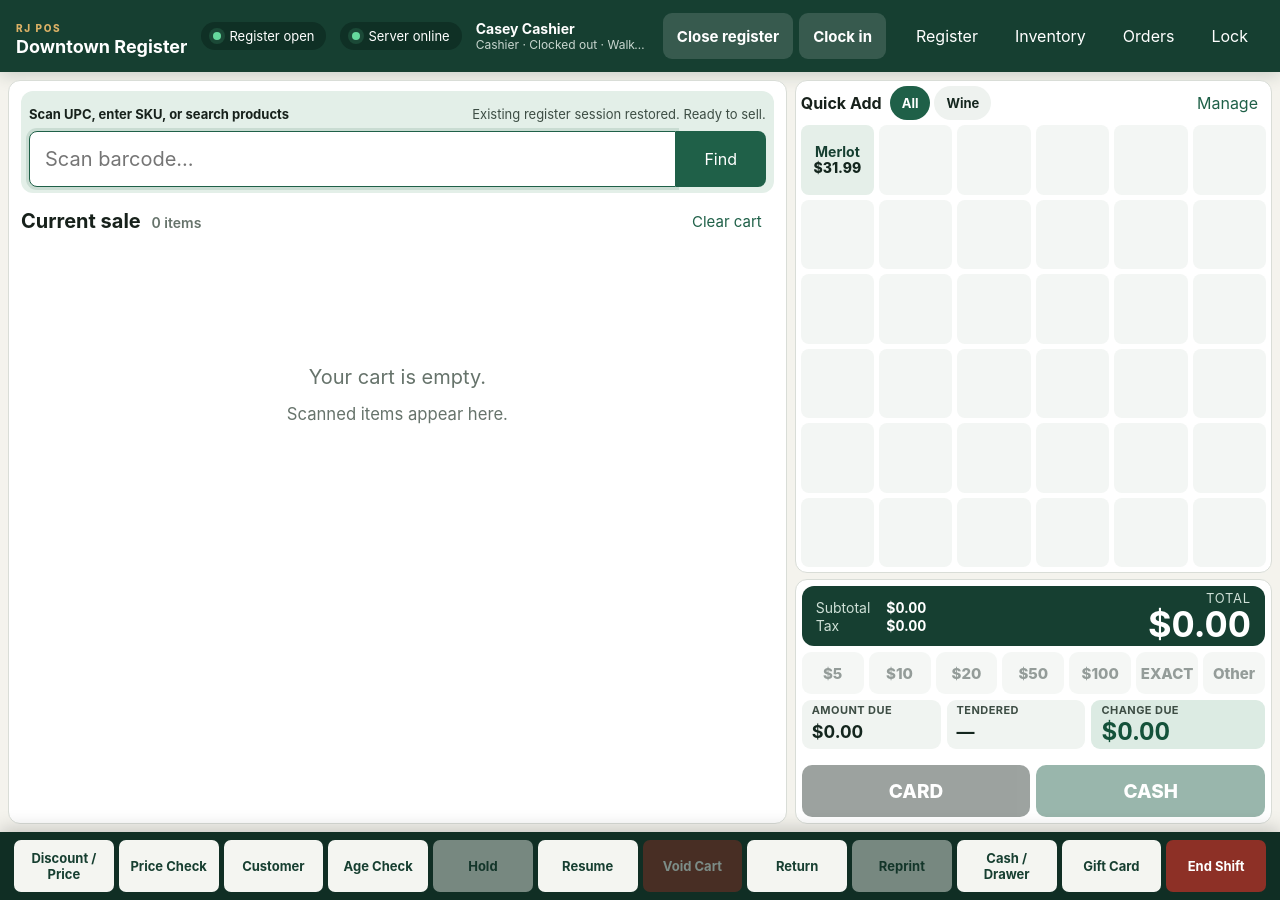
Cash tender, change due, Quick Add grid, and age check › shows the cash remainder after gift-card value in split tender and completes with the server result
The width and height of the screenshot is (1280, 900).
Click the button "Merlot $31.99" at [837, 160], box [801,125,874,194]
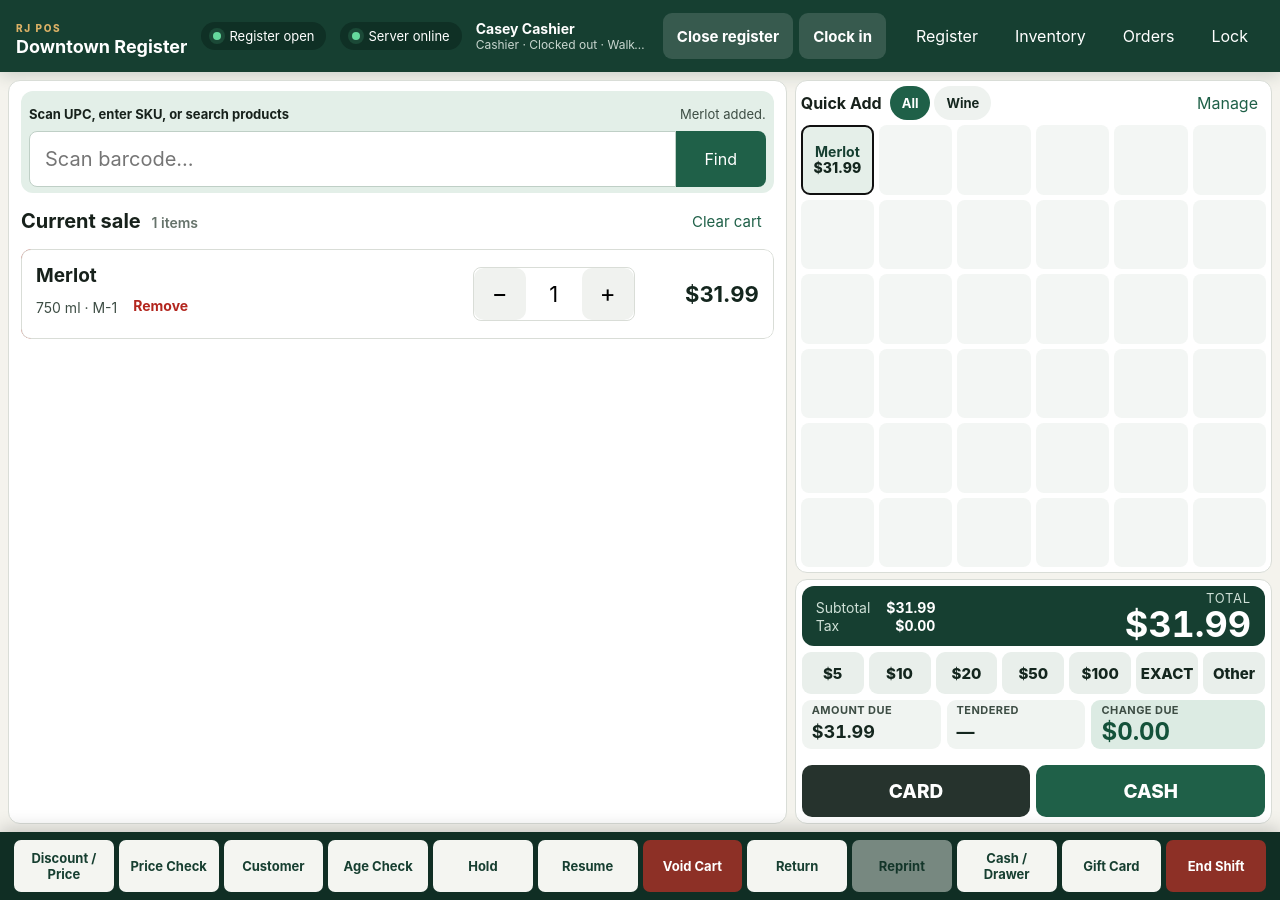
Expected: the field named "Quantity" is shown, [526,268,582,320]
Click the button "Gift Card" at [1111, 866], box [1062,840,1161,892]
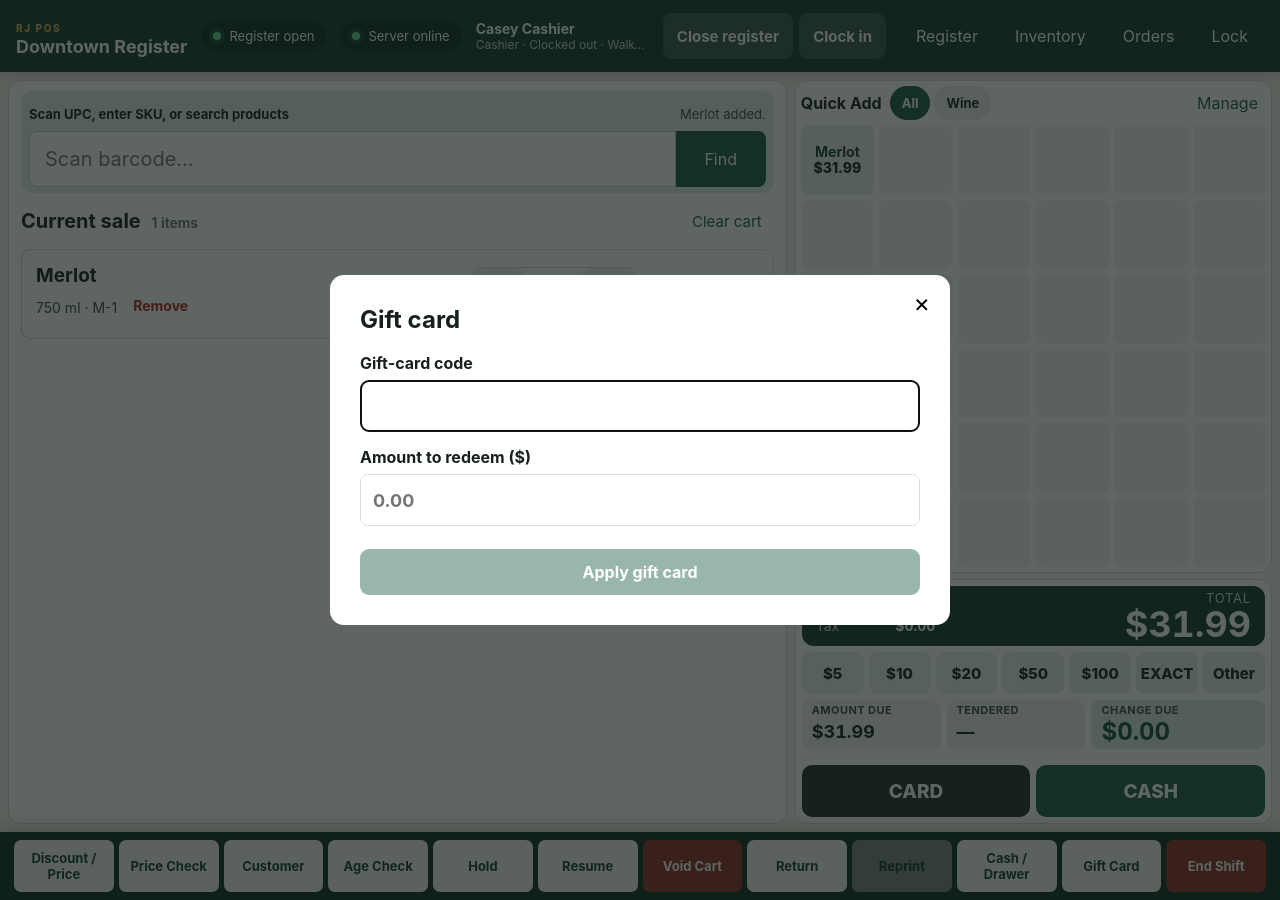
Type "RJ-1" into the field labelled "Gift-card code" at [640, 406], box [360,380,920,432]
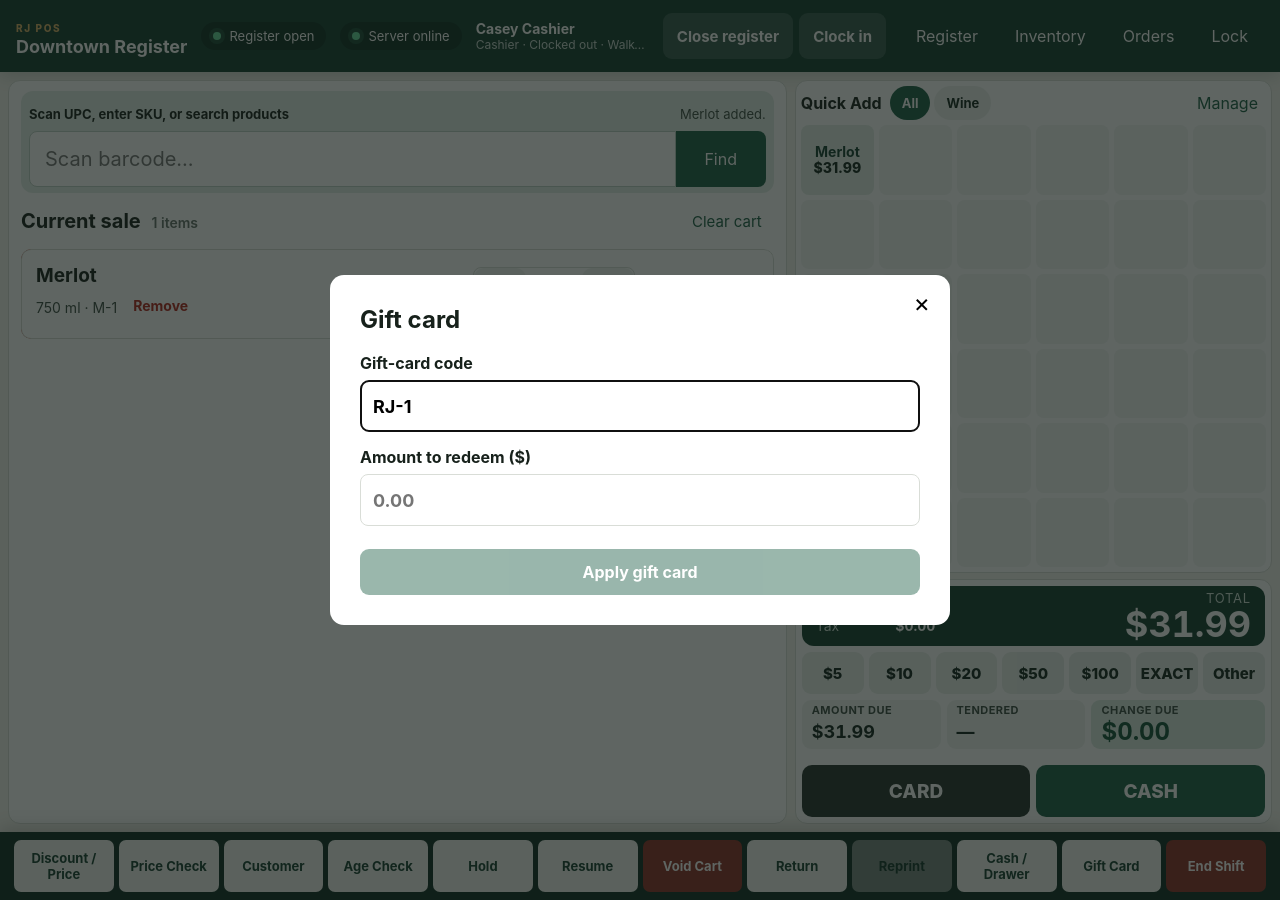
Type "21.99" into the field named "Gift-card amount" at [640, 500], box [360,474,920,526]
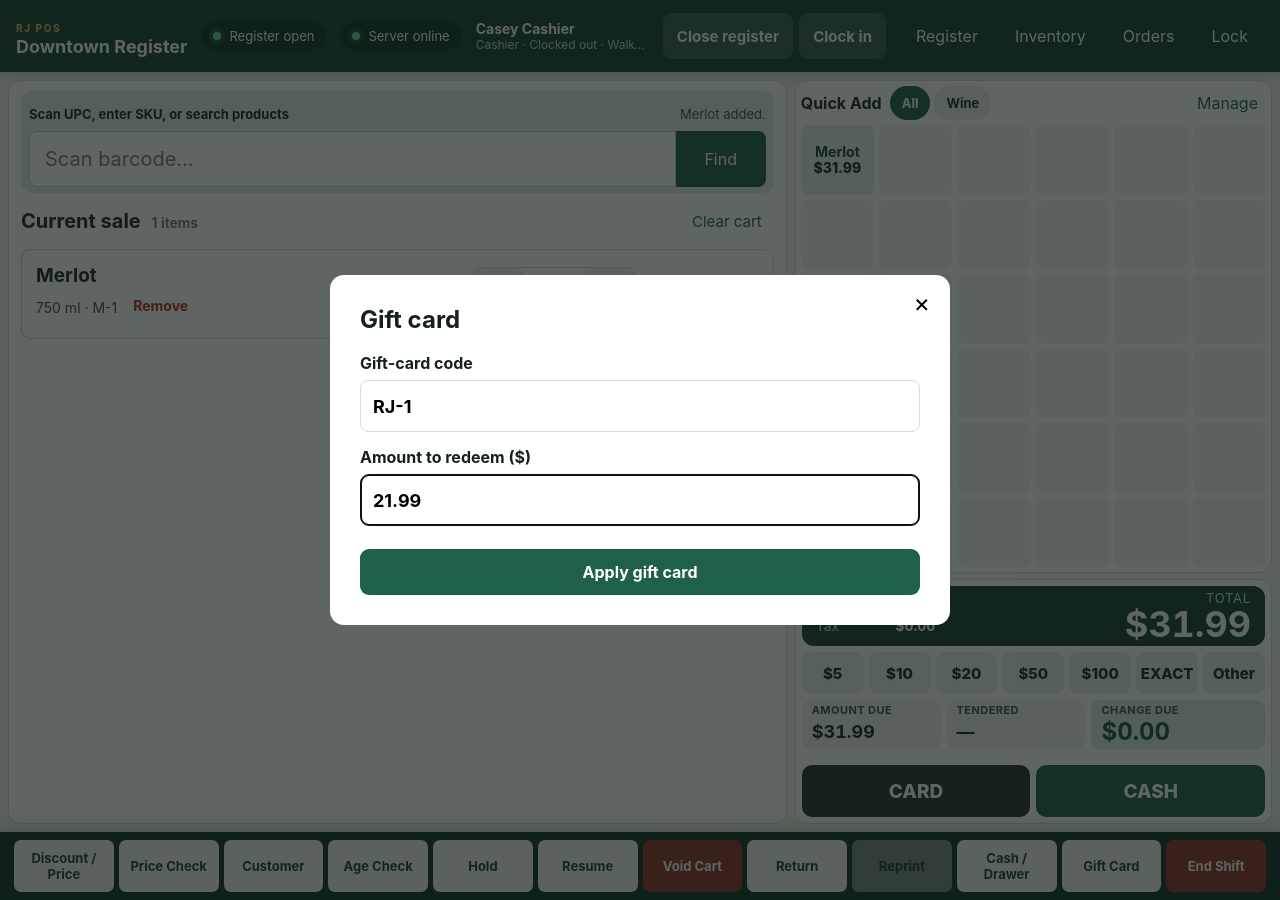
Click the button "Apply gift card" at [640, 572], box [360,550,920,596]
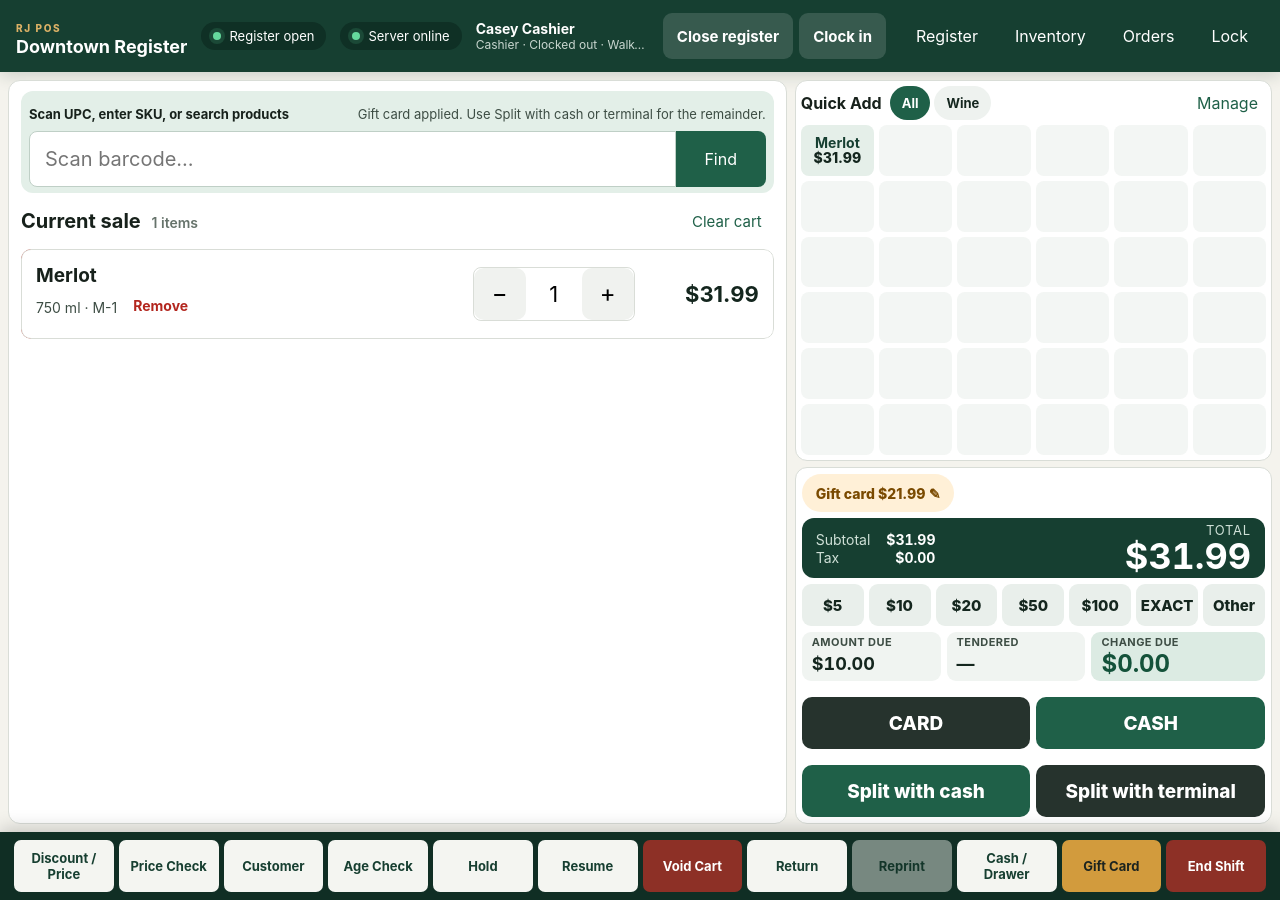
Expected: the button "Gift card $21.99 ✎" is shown, [802,474,954,512]
Expected: the text "$10.00" is shown, [812,653,875,674]
Click the button "Split with cash" at [916, 791], box [802,765,1030,817]
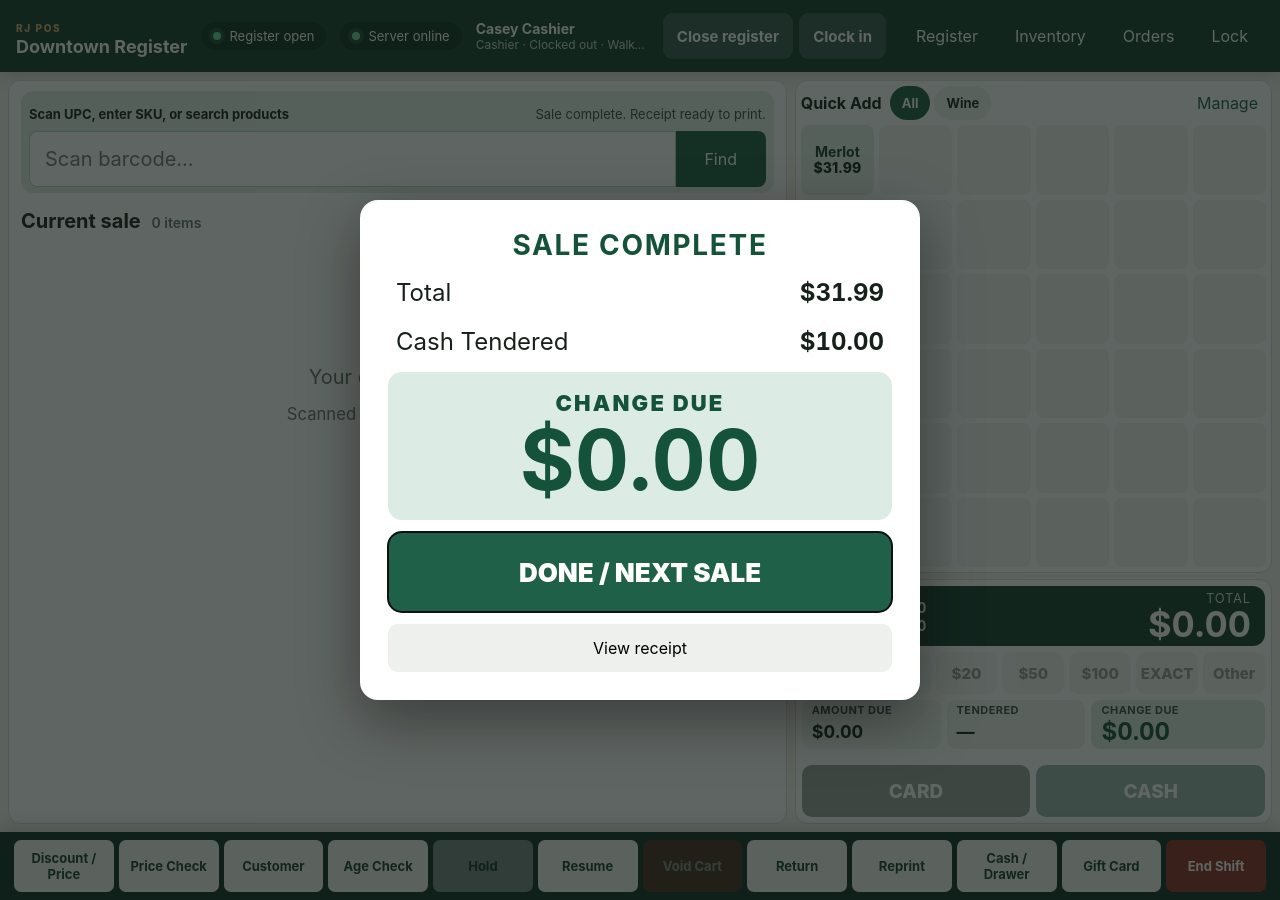
Expected: the text named "Change due" reads "$0.00", [520,409,760,510]
